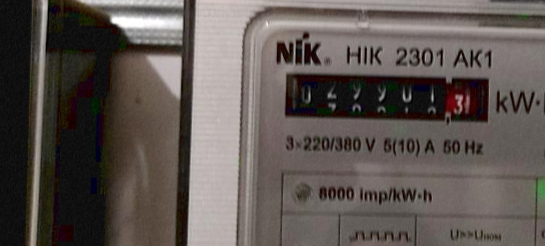0: (400, 78, 416, 103), (299, 81, 314, 104)
1: (427, 79, 439, 103)
2: (325, 77, 341, 99)
3: (452, 91, 467, 115)
9: (376, 79, 388, 103), (351, 78, 363, 99)
screen: (277, 64, 500, 132)
